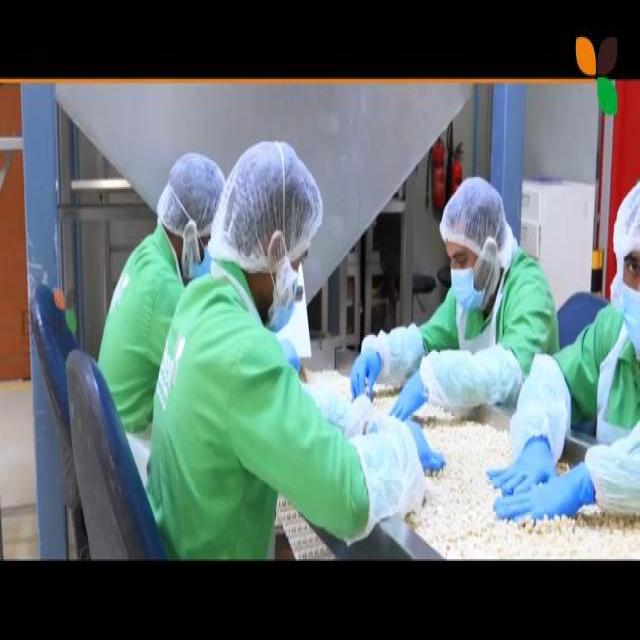hairnet: (220, 143, 320, 252), (441, 175, 506, 262), (157, 152, 215, 238), (615, 182, 640, 248)
